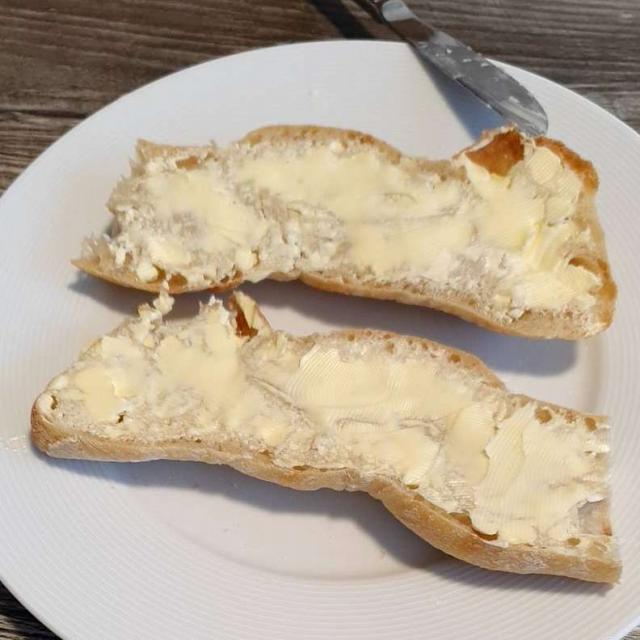bread-white: (35, 164, 615, 576)
